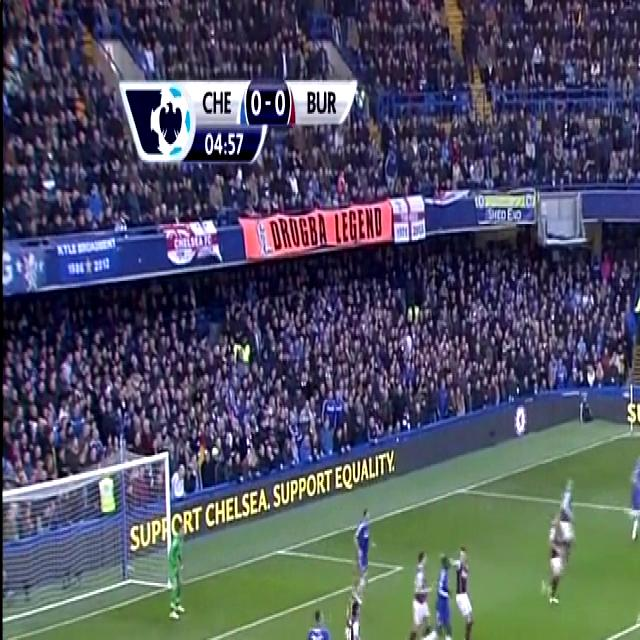goalkeeper: (162, 522, 198, 640)
soccer-player: (536, 504, 569, 608), (404, 535, 433, 640), (347, 512, 383, 596), (447, 540, 475, 640), (425, 553, 455, 640), (555, 460, 581, 558), (297, 594, 343, 640), (623, 450, 640, 551), (342, 594, 377, 640), (639, 538, 640, 640)
